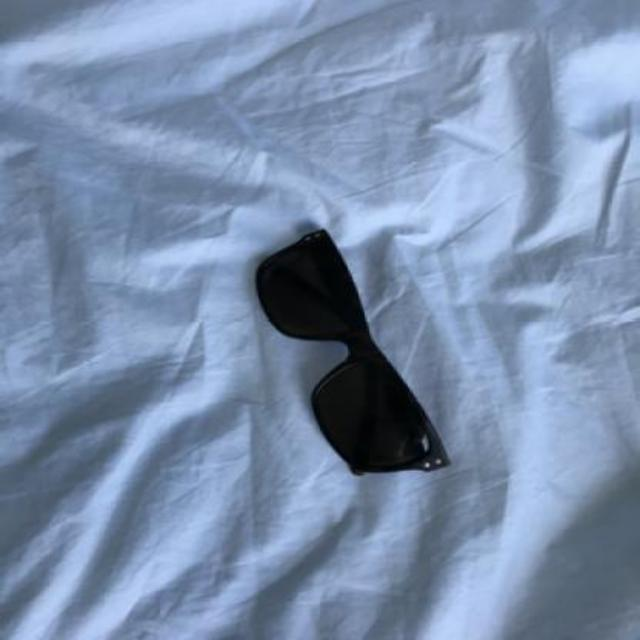glasses: (252, 228, 452, 476)
